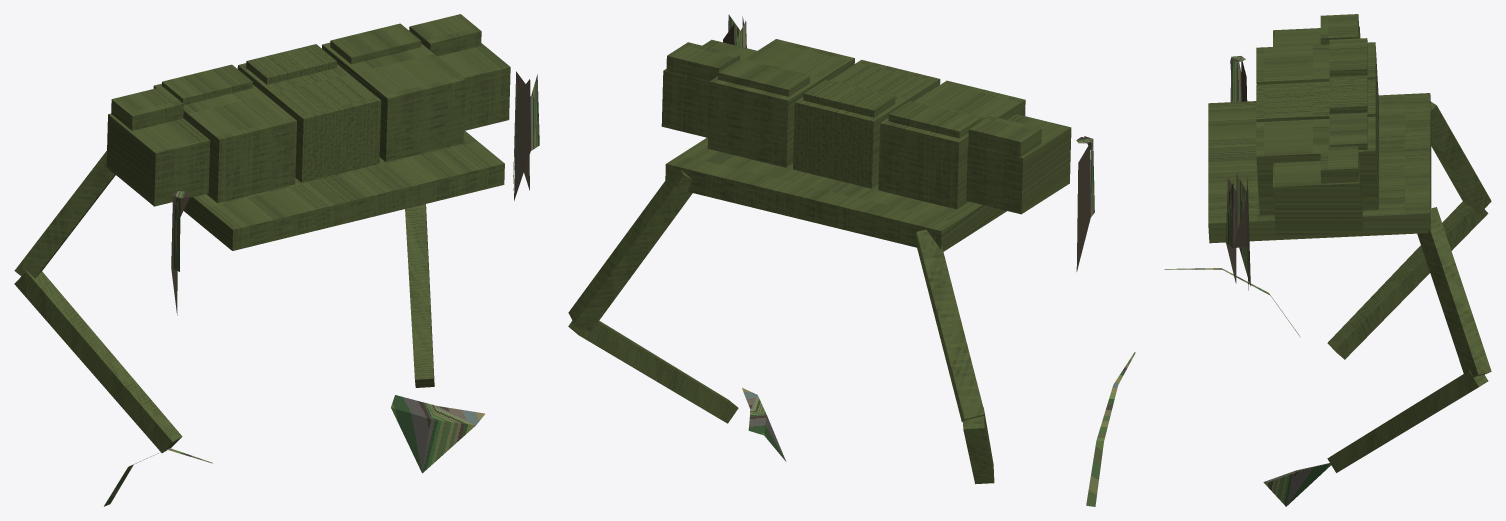
The model's file is chest_rig_ak_foliage.glb.
The picture shows the model from 3 angles, left to right: view 1: azimuth 30°, elevation 25°; view 2: azimuth 150°, elevation 25°; view 3: azimuth 270°, elevation 25°; orthographic projection. The views are drawn at different scales.
Visible parts, largest first — view 1: chest_rig_ak_foliage, chest_rig_ak_foliage_sprig_3, chest_rig_ak_foliage_sprig_0, chest_rig_ak_foliage_sprig_1; view 2: chest_rig_ak_foliage, chest_rig_ak_foliage_sprig_1, chest_rig_ak_foliage_sprig_2, chest_rig_ak_foliage_sprig_3; view 3: chest_rig_ak_foliage, chest_rig_ak_foliage_sprig_0, chest_rig_ak_foliage_sprig_3, chest_rig_ak_foliage_sprig_1.
Part boxes in pixels (x1=…): chest_rig_ak_foliage: x1=14, y1=14, x2=510, y2=452; chest_rig_ak_foliage_sprig_3: x1=391, y1=395, x2=484, y2=473; chest_rig_ak_foliage_sprig_0: x1=513, y1=71, x2=539, y2=200; chest_rig_ak_foliage_sprig_1: x1=171, y1=191, x2=189, y2=315; chest_rig_ak_foliage: x1=568, y1=39, x2=1071, y2=484; chest_rig_ak_foliage_sprig_1: x1=1076, y1=136, x2=1094, y2=271; chest_rig_ak_foliage_sprig_2: x1=1086, y1=352, x2=1135, y2=506; chest_rig_ak_foliage_sprig_3: x1=742, y1=388, x2=786, y2=461; chest_rig_ak_foliage: x1=1208, y1=14, x2=1491, y2=472; chest_rig_ak_foliage_sprig_0: x1=1226, y1=174, x2=1250, y2=290; chest_rig_ak_foliage_sprig_3: x1=1263, y1=463, x2=1330, y2=506; chest_rig_ak_foliage_sprig_1: x1=1230, y1=56, x2=1247, y2=102.
Bounding box in the file's own units: 0.3416 × 0.3193 × 0.2536.
5 materials, 5 textured.
